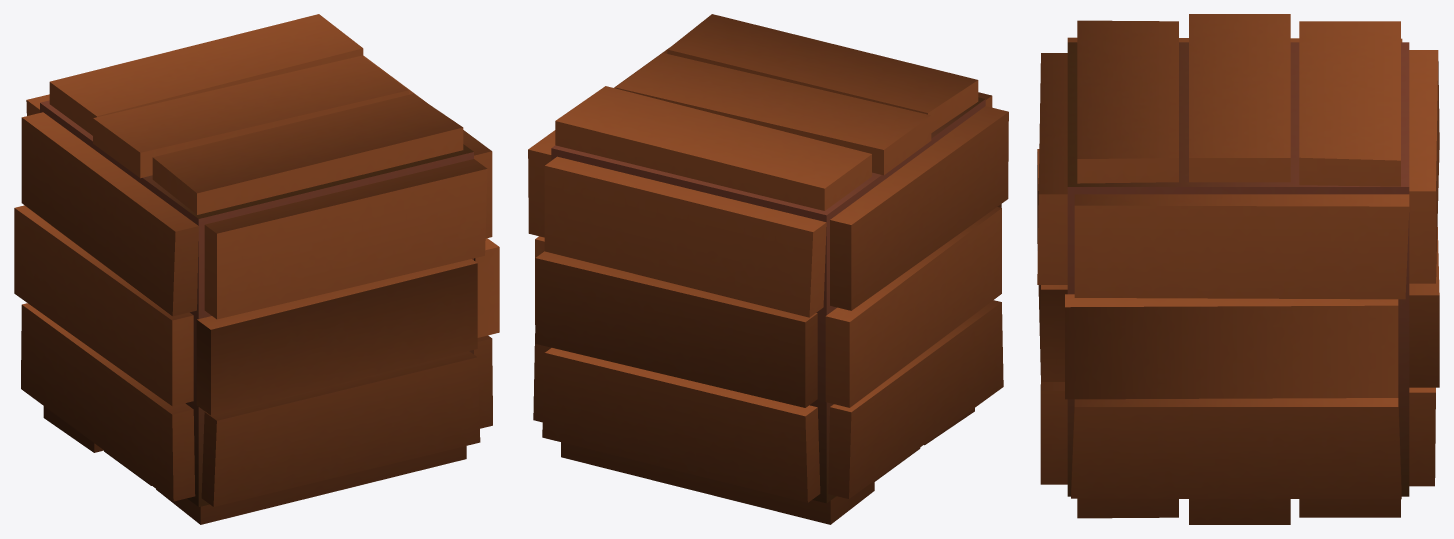
The picture shows the model from 3 angles, left to right: view 1: azimuth 30°, elevation 25°; view 2: azimuth 150°, elevation 25°; view 3: azimuth 270°, elevation 25°; orthographic projection. The views are drawn at different scales.
Parts seen in each view (by area): view 1: box.003; view 2: box.003; view 3: box.003.
Boxes of the visible parts, x1,y1,x2,y2 form: box.003: (14, 14, 499, 524); box.003: (528, 14, 1008, 524); box.003: (1037, 14, 1439, 524).
Size of the model in its own units: 105 by 105 by 105.
